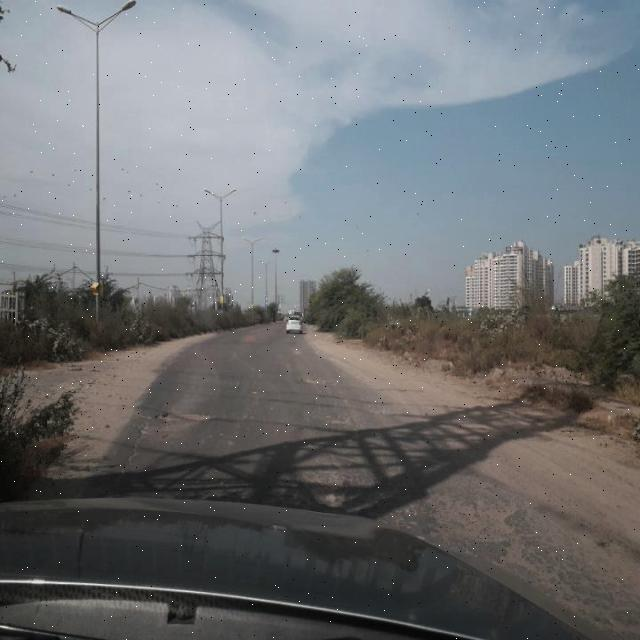D00: (101, 409, 153, 488)
D20: (376, 439, 636, 629)
D40: (417, 479, 556, 577), (135, 404, 217, 432), (306, 467, 351, 508), (363, 401, 431, 418), (322, 404, 353, 426), (296, 371, 337, 386)
